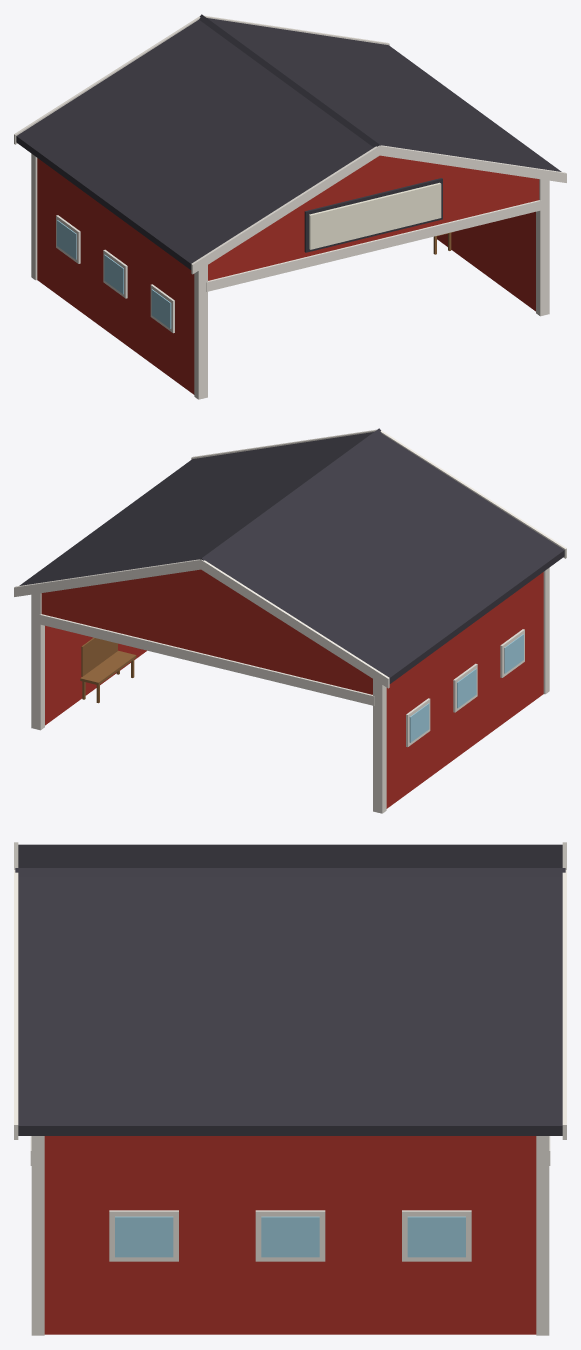
File: shed.glb
The picture shows the model from 3 angles, top to bottom: view 1: azimuth 30°, elevation 25°; view 2: azimuth 150°, elevation 25°; view 3: azimuth 270°, elevation 25°; orthographic projection. The views are drawn at different scales.
Visible parts, largest first — view 1: roof_slab, wall_R, gable_F, fascia, wall_L, signboard, corners, beam_F, window_glass_R, ridge_cap, sign_frame, window_frames_R; view 2: roof_slab, gable_B, wall_R, fascia, corners, beam_B, wall_L, bench_L, window_glass_R, ridge_cap, window_frames_R; view 3: roof_slab, wall_L, window_glass_L, corners, ridge_cap, window_frames_L, fascia.
Boxes of the visible parts, x1,y1,x2,y2 form: roof_slab: (16, 18, 561, 269); wall_R: (37, 158, 194, 394); gable_F: (208, 155, 539, 280); fascia: (14, 15, 566, 274); wall_L: (437, 211, 535, 311); signboard: (309, 182, 441, 249); corners: (31, 153, 549, 399); beam_F: (206, 200, 541, 291); window_glass_R: (57, 220, 171, 328); ridge_cap: (199, 14, 380, 147); sign_frame: (304, 178, 442, 252); window_frames_R: (56, 215, 174, 333); roof_slab: (19, 432, 564, 683); gable_B: (41, 569, 372, 694); wall_R: (386, 572, 543, 808); fascia: (14, 429, 566, 688); corners: (31, 567, 549, 813); beam_B: (39, 614, 374, 705); wall_L: (45, 625, 146, 725); bench_L: (80, 637, 136, 703); window_glass_R: (409, 634, 523, 742); ridge_cap: (200, 428, 381, 561); window_frames_R: (406, 629, 524, 747); roof_slab: (18, 844, 562, 1135); wall_L: (44, 1136, 536, 1334); window_glass_L: (115, 1216, 465, 1257); corners: (31, 1136, 549, 1335); ridge_cap: (15, 868, 565, 876); window_frames_L: (109, 1210, 471, 1261); fascia: (14, 842, 566, 1139).
Bounding box in the file's own units: 18.3 × 10.11 × 15.12.
